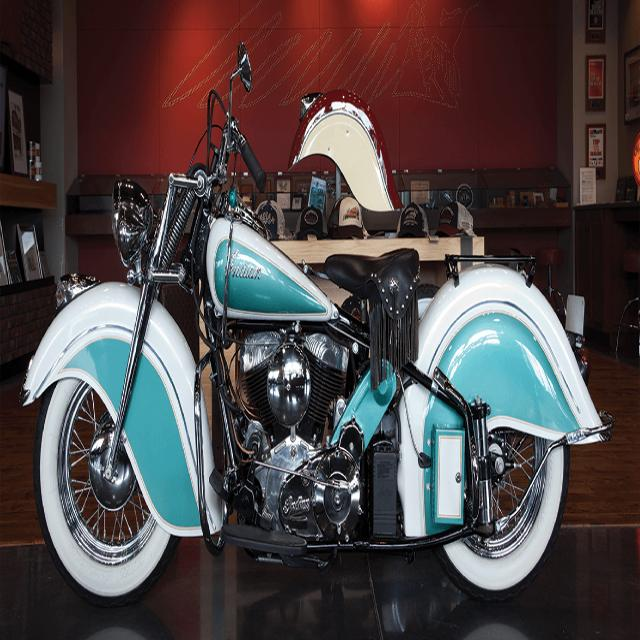motorcycle: (20, 43, 614, 603)
